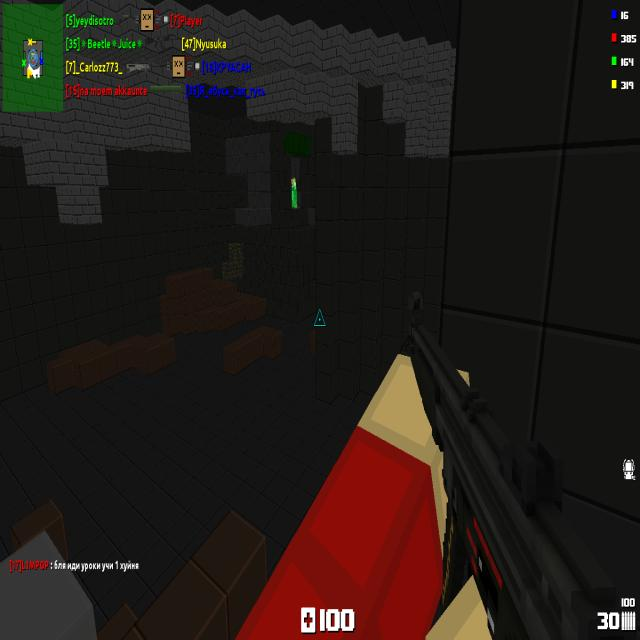enemy: (291, 177, 298, 208)
